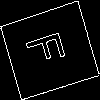F: (24, 25, 75, 69)
